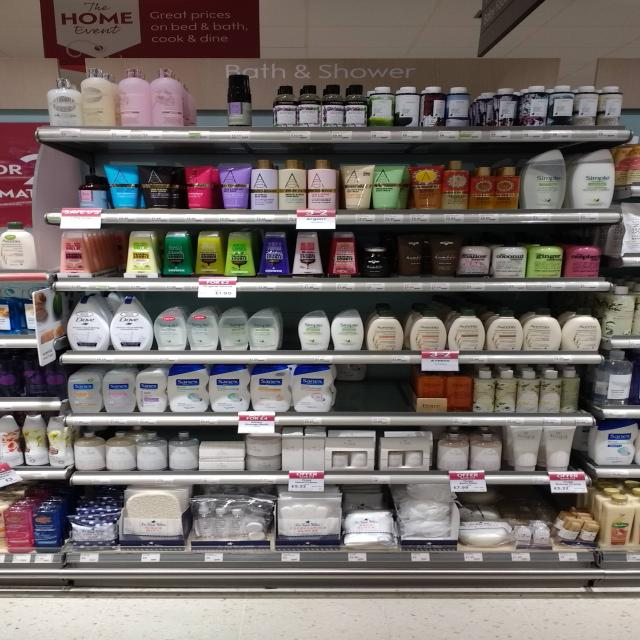void: (190, 66, 220, 140), (91, 226, 123, 292), (389, 366, 414, 425), (256, 70, 274, 140), (368, 364, 388, 425)
